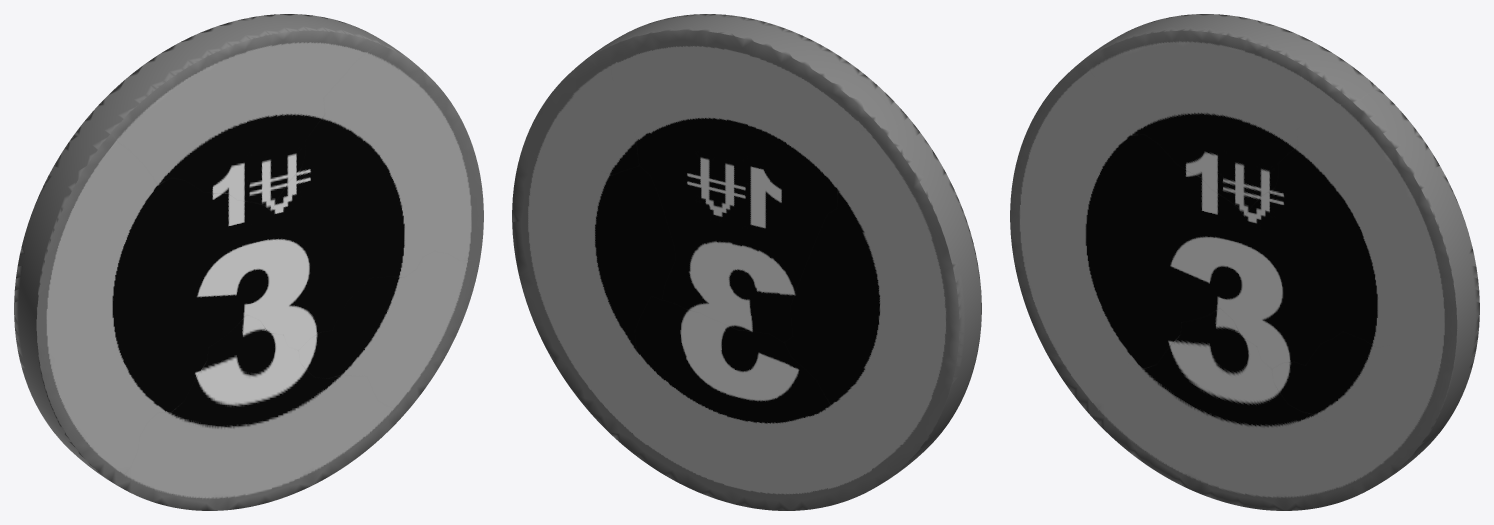
The picture shows the model from 3 angles, left to right: view 1: azimuth 30°, elevation 25°; view 2: azimuth 150°, elevation 25°; view 3: azimuth 330°, elevation 25°; orthographic projection.
Parts seen in each view (by area): view 1: node_id27; view 2: node_id27; view 3: node_id27.
Boxes of the visible parts, x1,y1,x2,y2 form: node_id27: (14,14,483,510); node_id27: (512,14,981,510); node_id27: (1010,14,1479,510).
Size of the model in its own units: 0.512 by 0.512 by 0.0447.
Materials: 1 (1 with a texture image).
